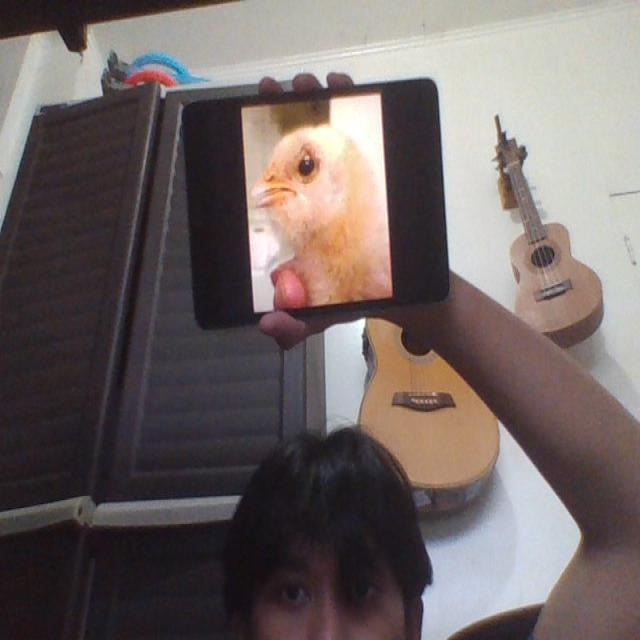Sick: (250, 127, 395, 302)
